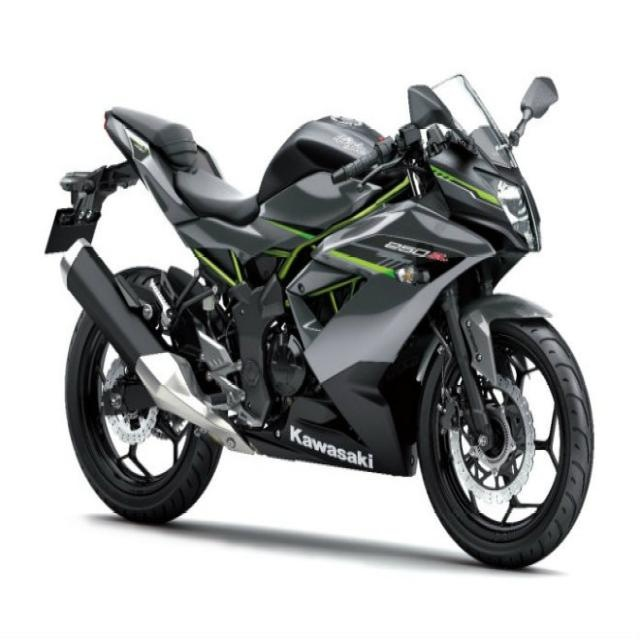Motorcycle: (36, 62, 596, 578)
